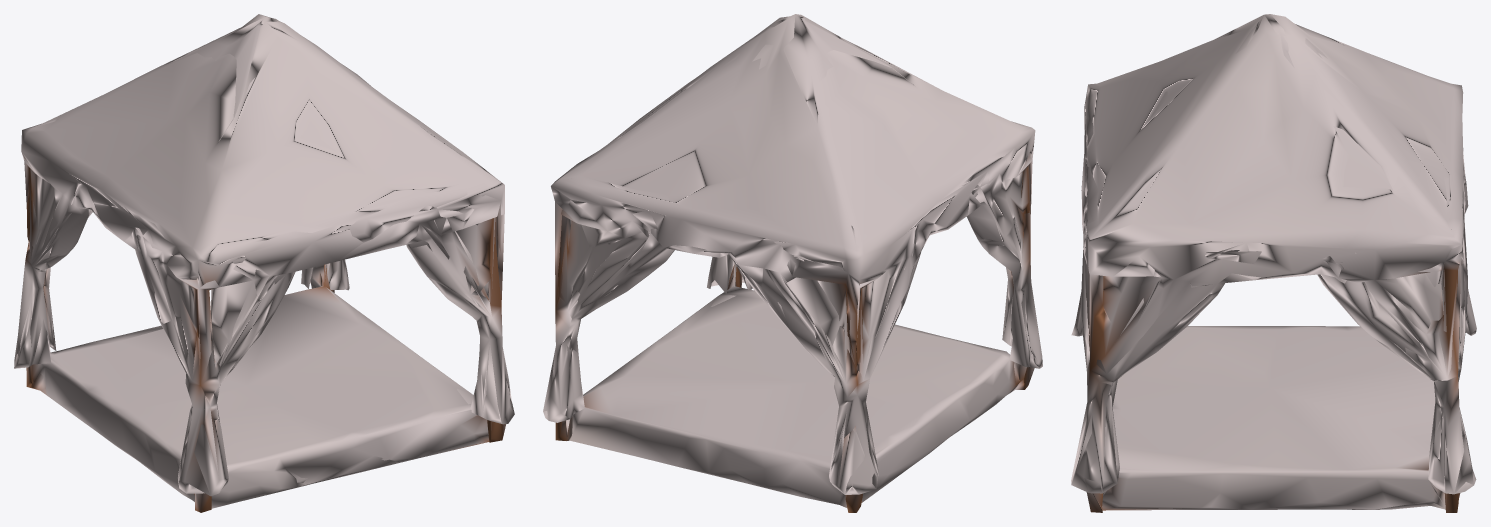
File: gen3d-beach-cabana-lod0.glb
The picture shows the model from 3 angles, left to right: view 1: azimuth 30°, elevation 25°; view 2: azimuth 150°, elevation 25°; view 3: azimuth 270°, elevation 25°; orthographic projection. The views are drawn at different scales.
Visible parts, largest first — view 1: part_0; view 2: part_0; view 3: part_0.
Boxes of the visible parts, <box> form: part_0: <box>14,14,514,512</box>; part_0: <box>543,14,1042,512</box>; part_0: <box>1071,14,1476,512</box>.
Bounding box in the file's own units: 0.8713 × 1 × 0.8691.
